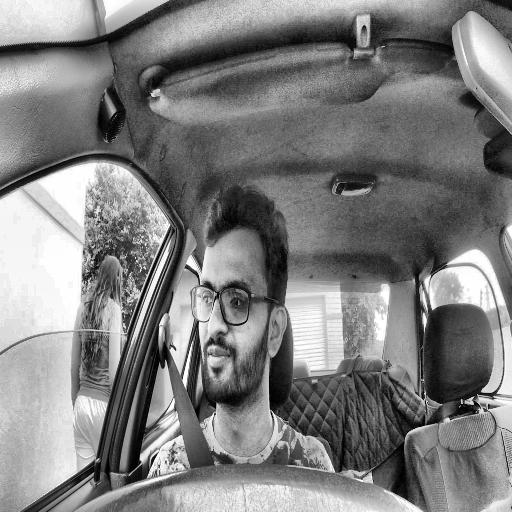awake: (189, 184, 290, 413)
